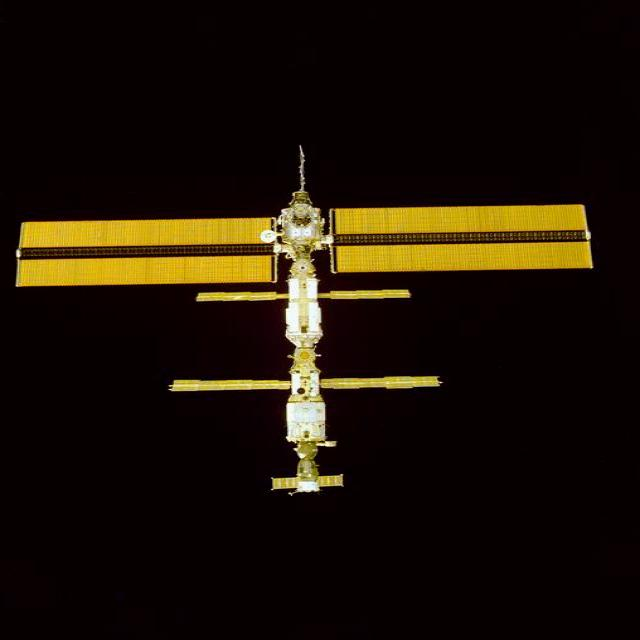satellite: (16, 148, 590, 493)
